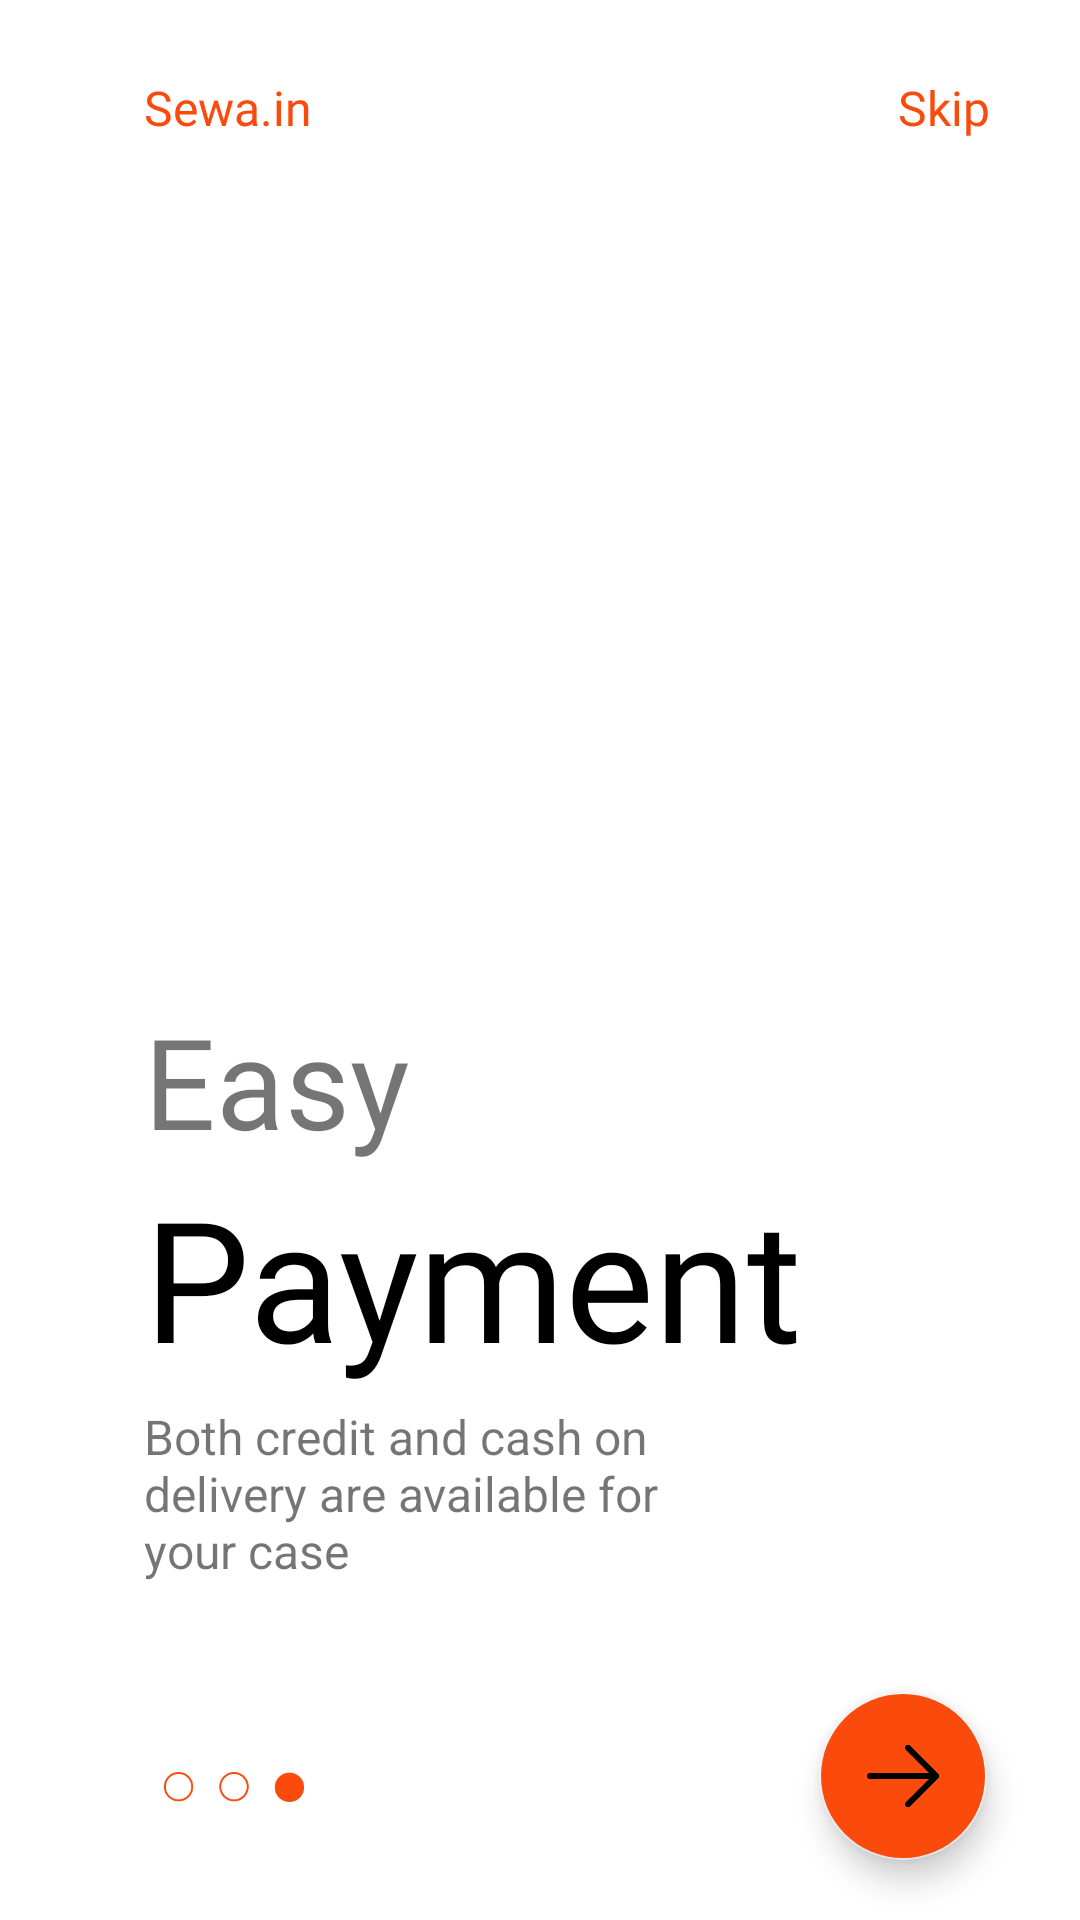

Point at icon controls on the screen. Image size 1080 x 1920, points as point (x, y).
next: point (904, 1777)
tab: point (234, 1787)
